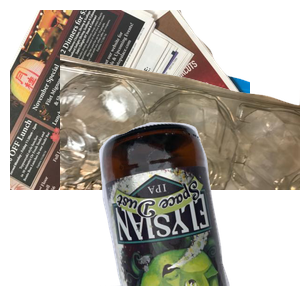glass: (97, 120, 300, 300)
paper: (10, 10, 250, 190)
plastic: (60, 52, 300, 232)
trash: (109, 175, 279, 300)
